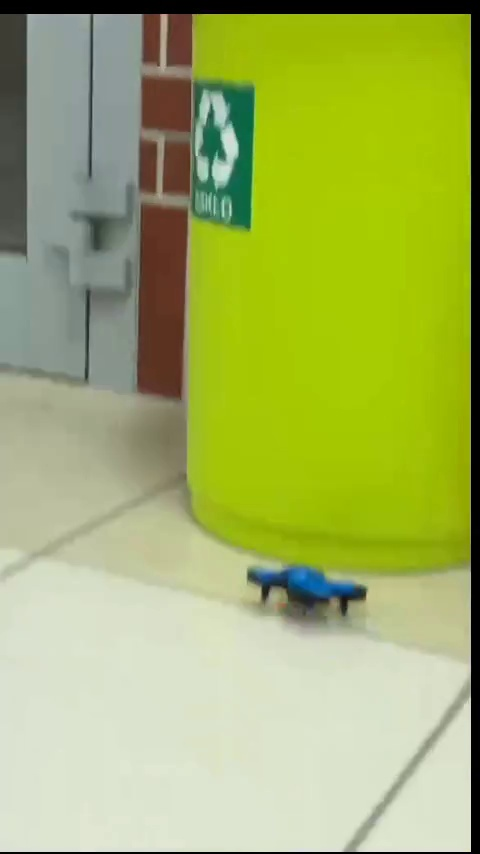drone: (248, 558, 360, 624)
